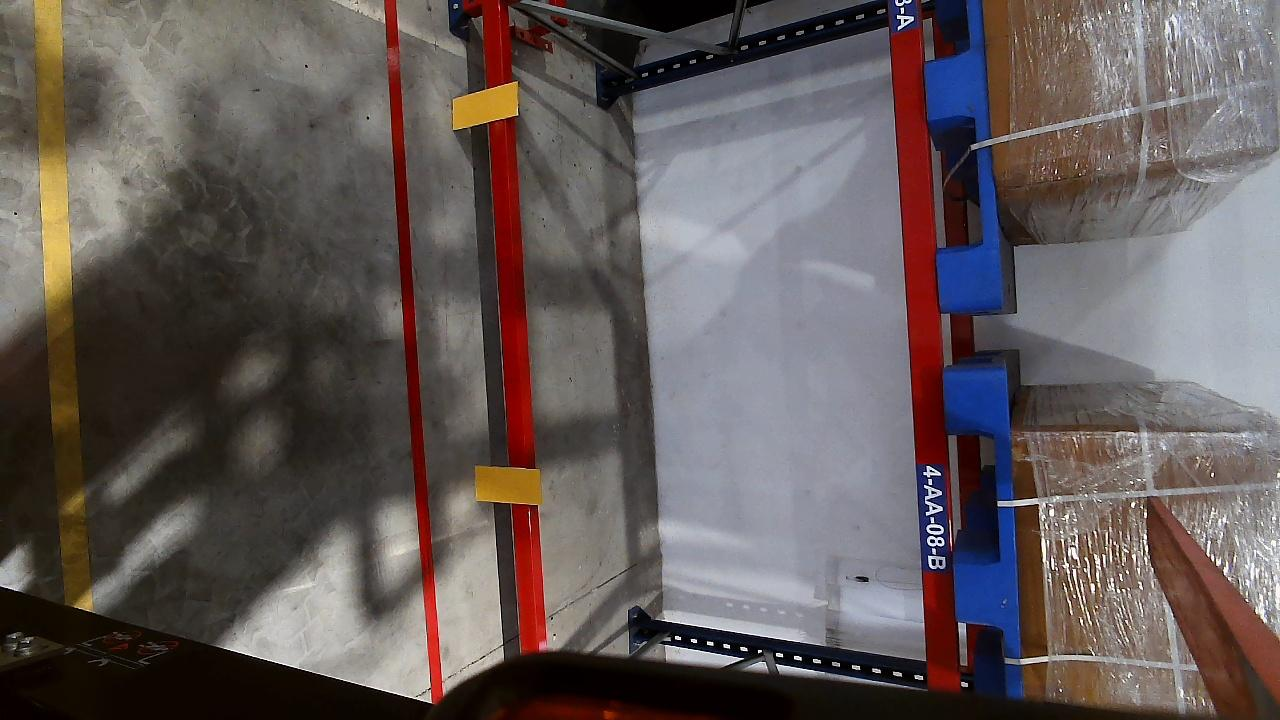h_rack: (880, 0, 955, 677), (478, 0, 549, 649)
orange_strip: (450, 82, 519, 128), (473, 466, 540, 505)
red_line: (377, 0, 445, 699)
small_pallet: (916, 0, 1007, 305), (944, 383, 1027, 691)
yellow_line: (31, 0, 96, 611)
